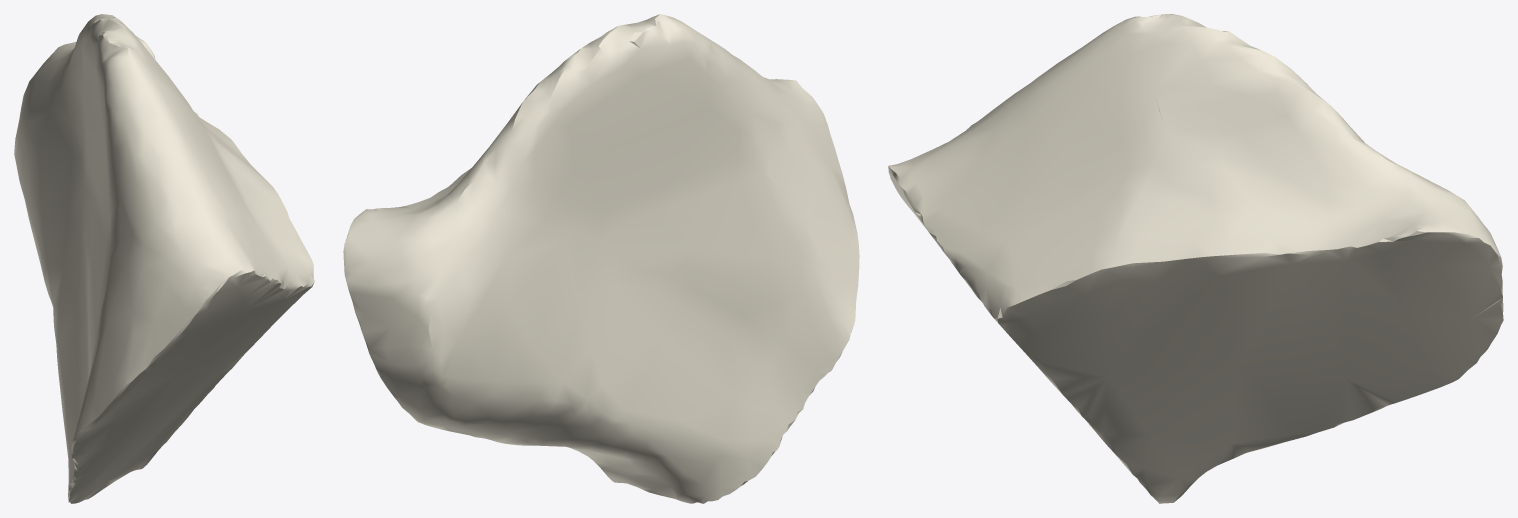
The model's file is fma16143_mm2369.glb.
The picture shows the model from 3 angles, left to right: view 1: azimuth 30°, elevation 25°; view 2: azimuth 150°, elevation 25°; view 3: azimuth 270°, elevation 25°; orthographic projection. The views are drawn at different scales.
Visible parts, largest first — view 1: FMA16143_MM2369; view 2: FMA16143_MM2369; view 3: FMA16143_MM2369.
Boxes of the visible parts, bbox=[...] form: FMA16143_MM2369: bbox=[14, 14, 314, 503]; FMA16143_MM2369: bbox=[343, 14, 859, 503]; FMA16143_MM2369: bbox=[888, 14, 1503, 503].
Size of the model in its own units: 0.00905 by 0.0146 by 0.0168.
